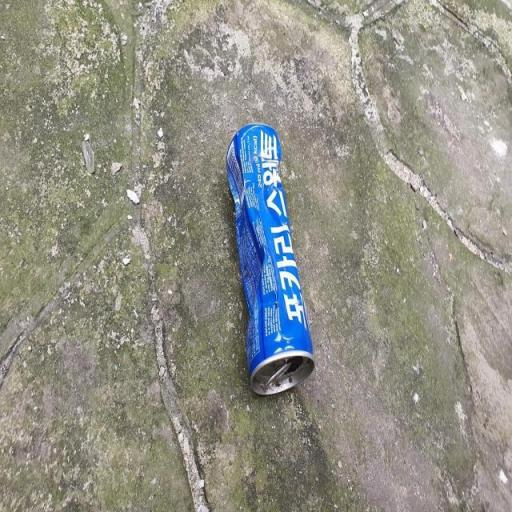metal: (211, 116, 323, 408)
